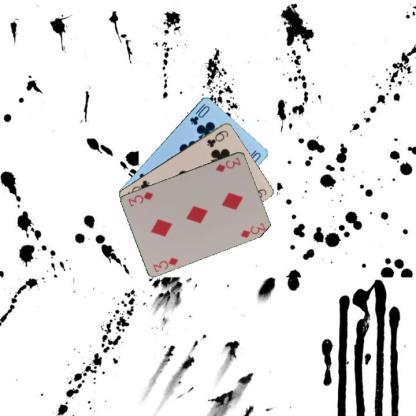10c: (187, 103, 211, 126)
3d: (150, 254, 180, 274), (213, 154, 242, 173)
6c: (204, 127, 230, 148)
